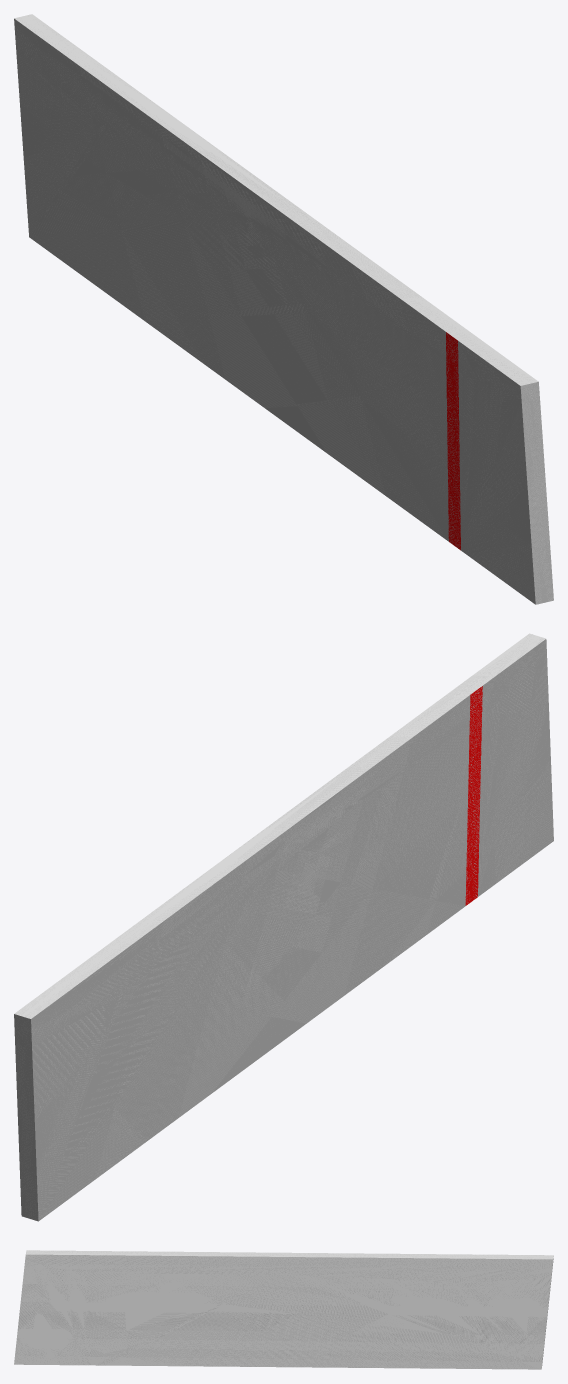
Rendered from frontWheelLeftDoor.dae.
3 views of the same model, one above another, from view 1: azimuth 30°, elevation 25°; view 2: azimuth 150°, elevation 25°; view 3: azimuth 270°, elevation 25° (orthographic). The views are drawn at different scales.
Parts seen in each view (by area): view 1: group_0 (×4); view 2: group_0 (×4); view 3: group_0 (×2).
Boxes of the visible parts, x1,y1,x2,y2 form: group_0 (×4): (14,14,553,604); group_0 (×4): (14,633,553,1221); group_0 (×2): (14,1250,553,1369).
Size of the model in its own units: 2.61 by 92.1 by 21.31.
